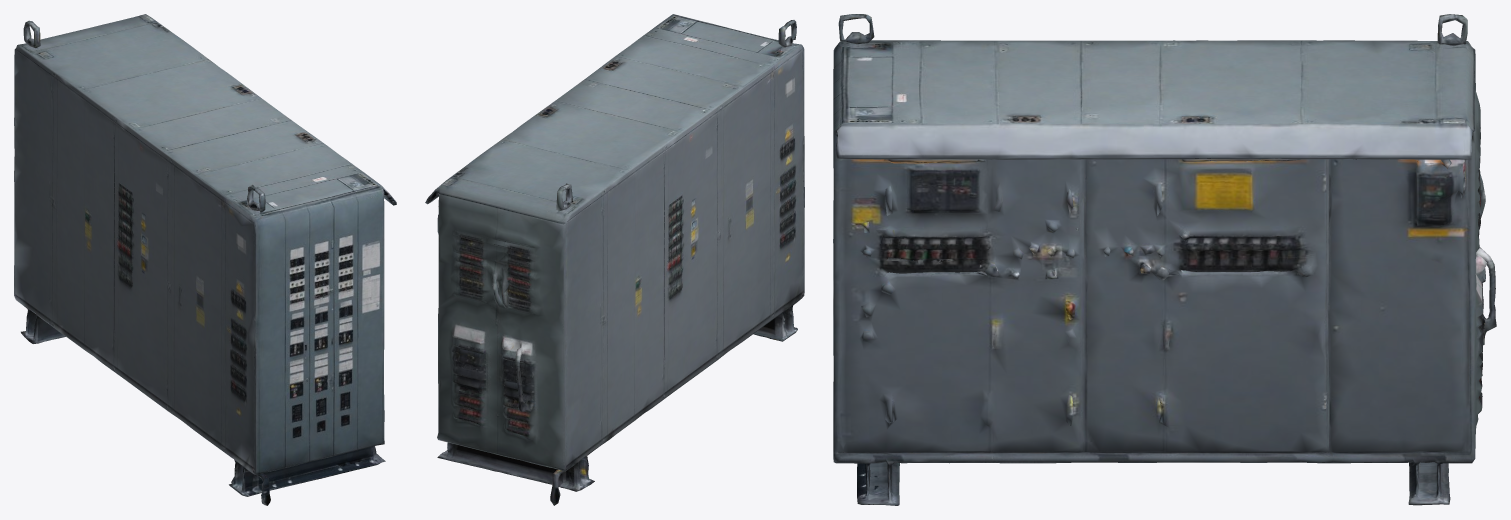
The model's file is industrial_switchgear.glb.
3 views of the same model, side by side, from view 1: azimuth 30°, elevation 25°; view 2: azimuth 150°, elevation 25°; view 3: azimuth 270°, elevation 25° (orthographic). The views are drawn at different scales.
Parts seen in each view (by area): view 1: Object_4; view 2: Object_4; view 3: Object_4.
Part boxes in pixels (box(x1,y1,x2,y2)): Object_4: box(14, 14, 396, 505); Object_4: box(425, 14, 804, 505); Object_4: box(833, 14, 1496, 505).
Size of the model in its own units: 0.6874 by 1.41 by 2.
Materials: 1 (1 with a texture image).
